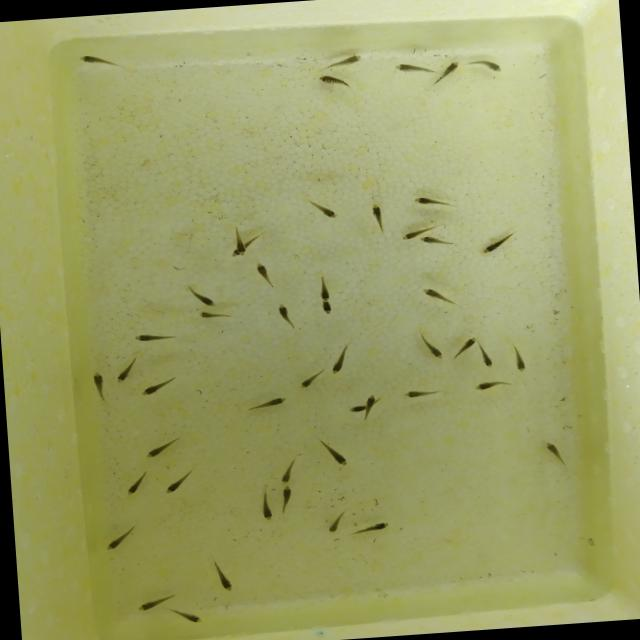fingerling: (73, 48, 128, 74), (474, 230, 524, 258), (407, 189, 459, 213), (418, 282, 462, 310), (102, 520, 140, 552), (140, 434, 185, 461), (164, 602, 210, 628), (387, 56, 434, 80), (317, 436, 352, 468), (362, 200, 392, 237), (313, 70, 359, 94), (463, 54, 507, 79), (540, 436, 571, 471), (208, 558, 238, 594), (160, 468, 196, 496), (317, 50, 370, 69), (307, 196, 342, 223), (243, 394, 289, 414), (133, 592, 180, 611), (327, 342, 353, 376), (345, 520, 394, 538), (434, 59, 462, 90), (121, 469, 152, 497), (112, 356, 142, 384), (448, 332, 476, 362), (138, 375, 176, 397), (128, 329, 180, 345), (418, 332, 444, 363), (255, 484, 276, 522), (186, 285, 220, 308), (320, 508, 350, 534), (88, 368, 110, 403), (469, 376, 511, 394), (274, 301, 298, 331), (253, 258, 276, 289), (193, 307, 236, 323), (276, 483, 298, 514), (416, 232, 458, 248), (276, 456, 300, 484), (400, 384, 440, 400), (296, 369, 325, 391), (509, 342, 528, 374), (315, 272, 335, 302), (362, 391, 380, 422), (233, 220, 246, 258), (478, 346, 495, 370), (396, 227, 418, 242), (342, 403, 363, 415), (320, 303, 335, 316)
